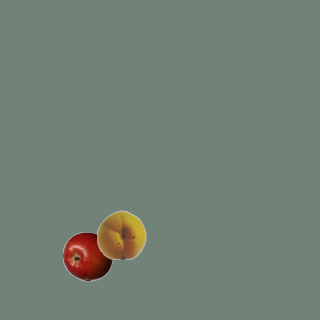Apple Braeburn: (62, 231, 112, 281)
Peach 2: (96, 209, 146, 259)
